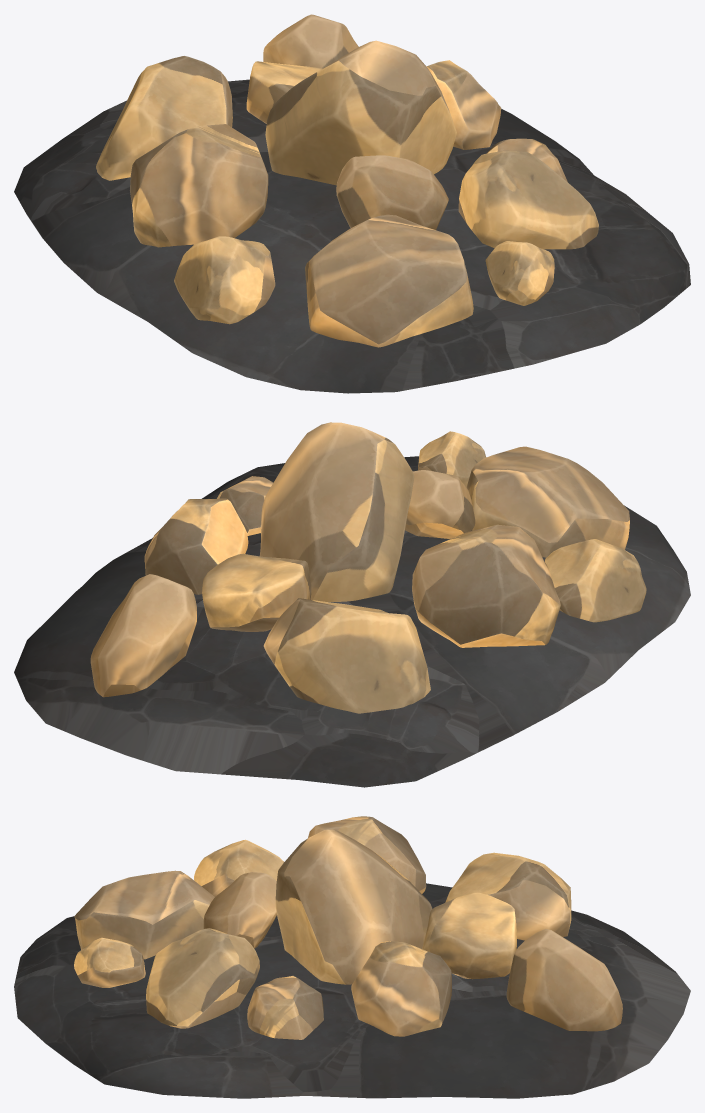
The model's file is SM_Rock_Cluster_01.fbx.
3 views of the same model, one above another, from view 1: azimuth 30°, elevation 25°; view 2: azimuth 150°, elevation 25°; view 3: azimuth 270°, elevation 25° (orthographic). The views are drawn at different scales.
Visible parts, largest first — view 1: SM_Rock_Cluster_01_LOD0; view 2: SM_Rock_Cluster_01_LOD0; view 3: SM_Rock_Cluster_01_LOD0.
Boxes of the visible parts, <box> form: SM_Rock_Cluster_01_LOD0: <box>14,14,690,393</box>; SM_Rock_Cluster_01_LOD0: <box>14,422,690,787</box>; SM_Rock_Cluster_01_LOD0: <box>14,816,690,1098</box>.
Bounding box in the file's own units: 315 × 421 × 133.
